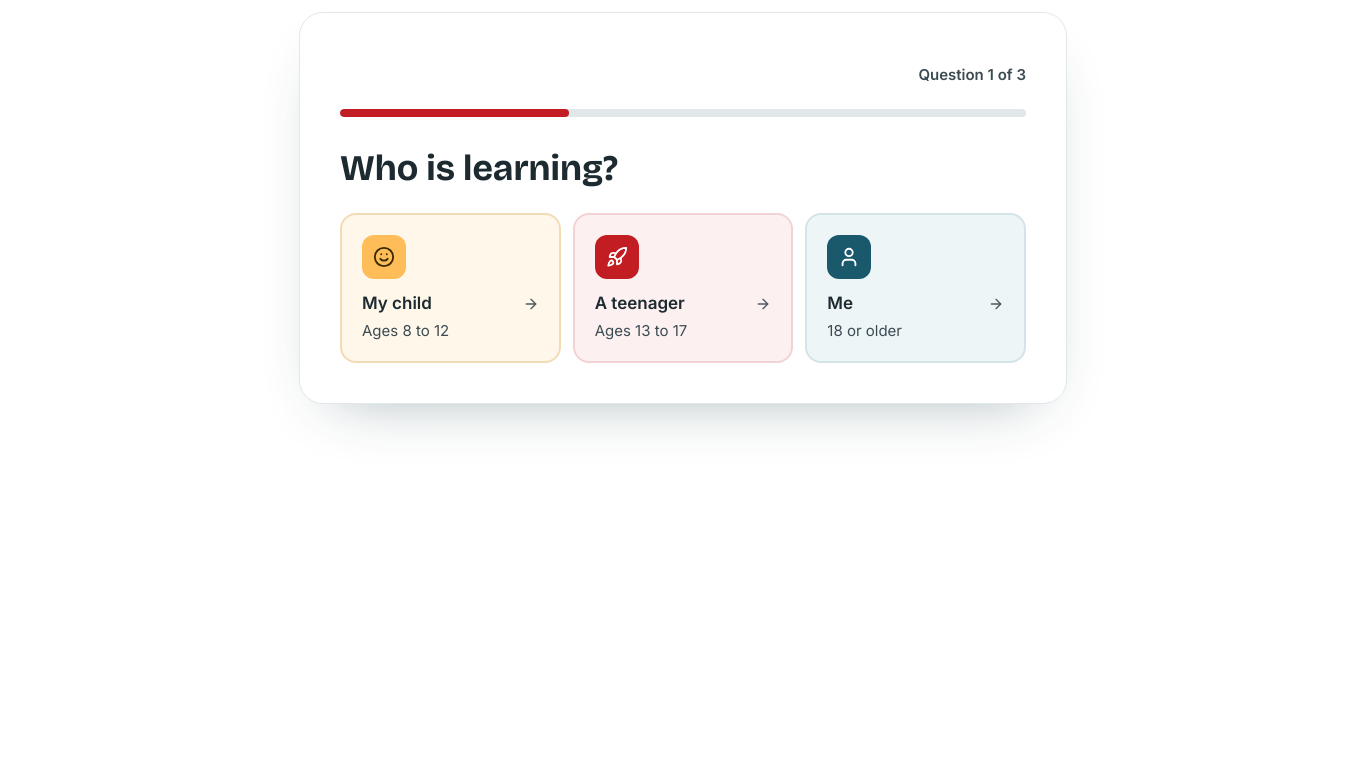
Scenario: course finder › changes one answer from the results and keeps the others
Click the button "My child Ages 8 to 12": (450, 288) [340,213,561,363]
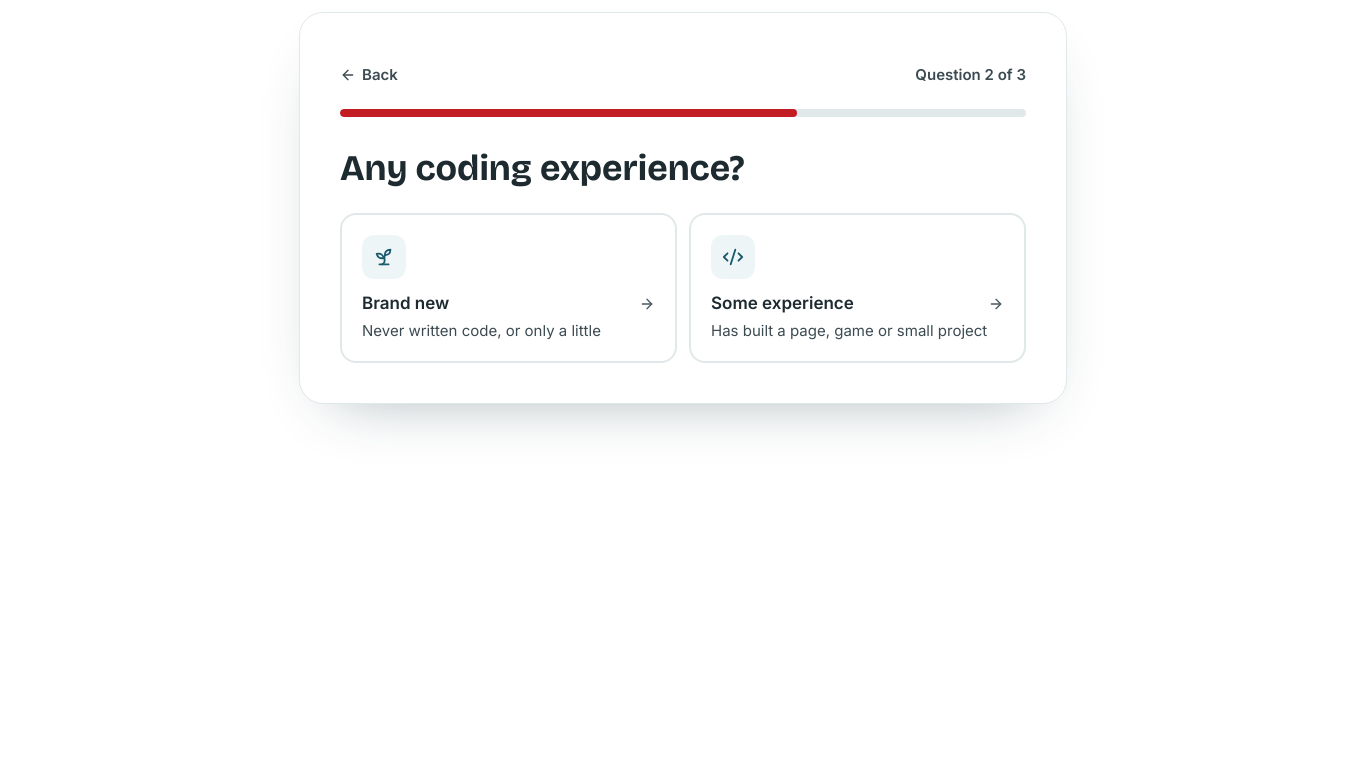
Click the button "Brand new Never written code, or only a little": (384, 257) [340,213,677,363]
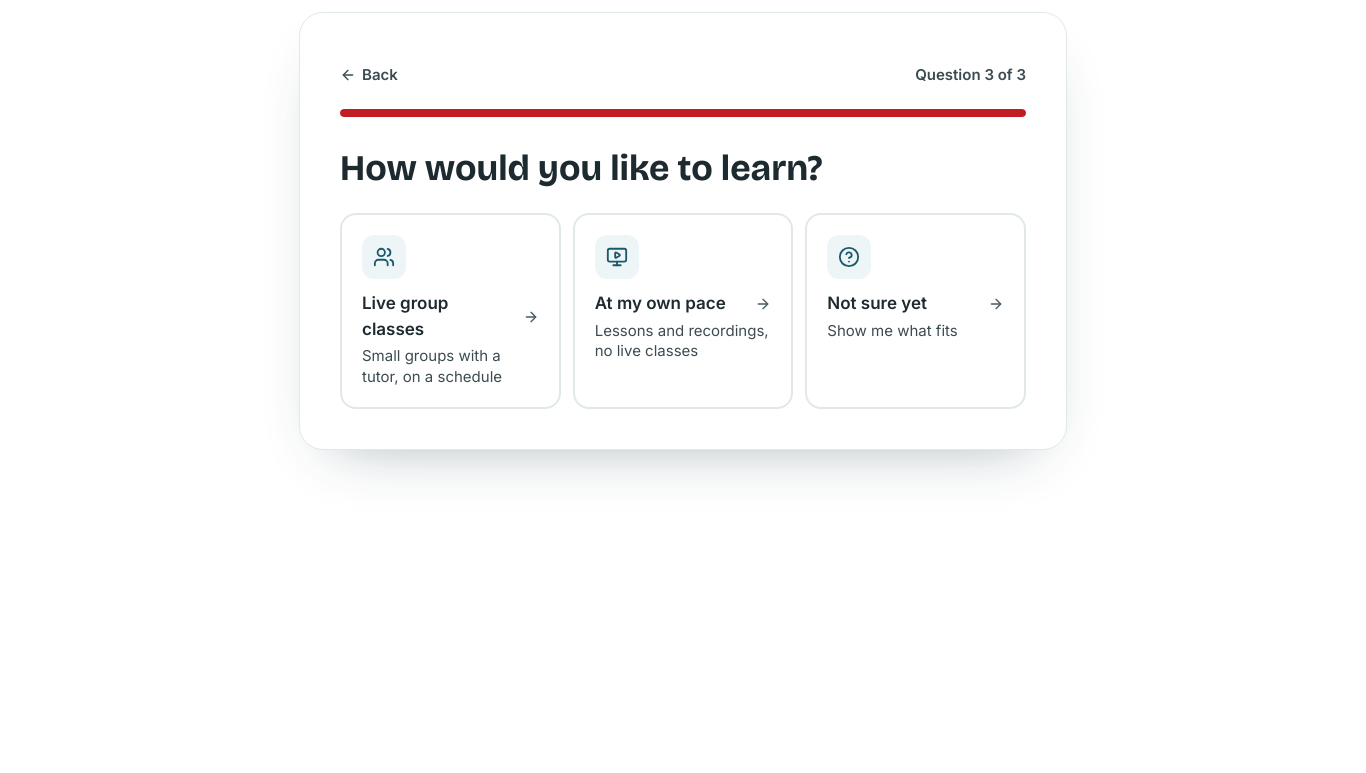
Click the button "Live group classes Small groups with a tutor, on a schedule": (450, 311) [340,213,561,409]
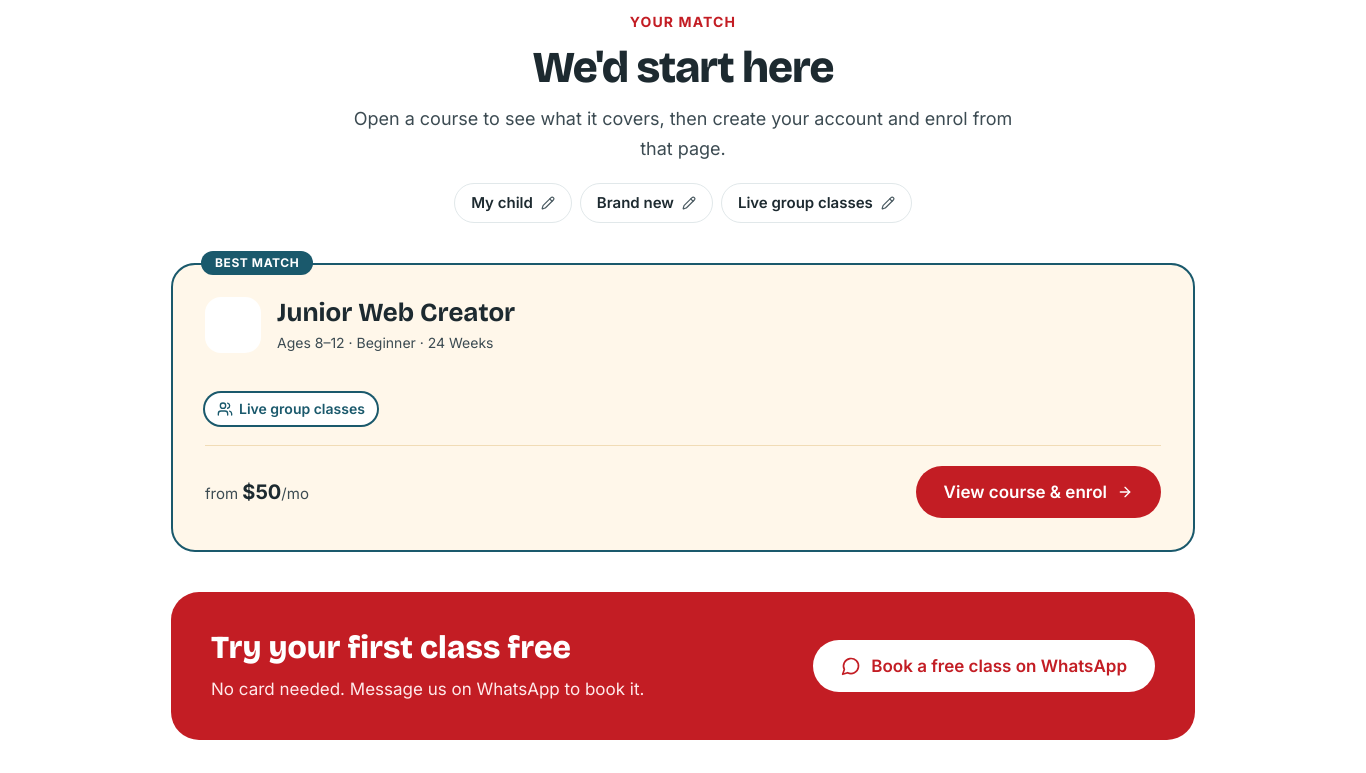
Check: the text "Junior Web Creator" is shown, box [277,297,515,329]
Click the button "My child": (513, 203) [454,183,572,223]
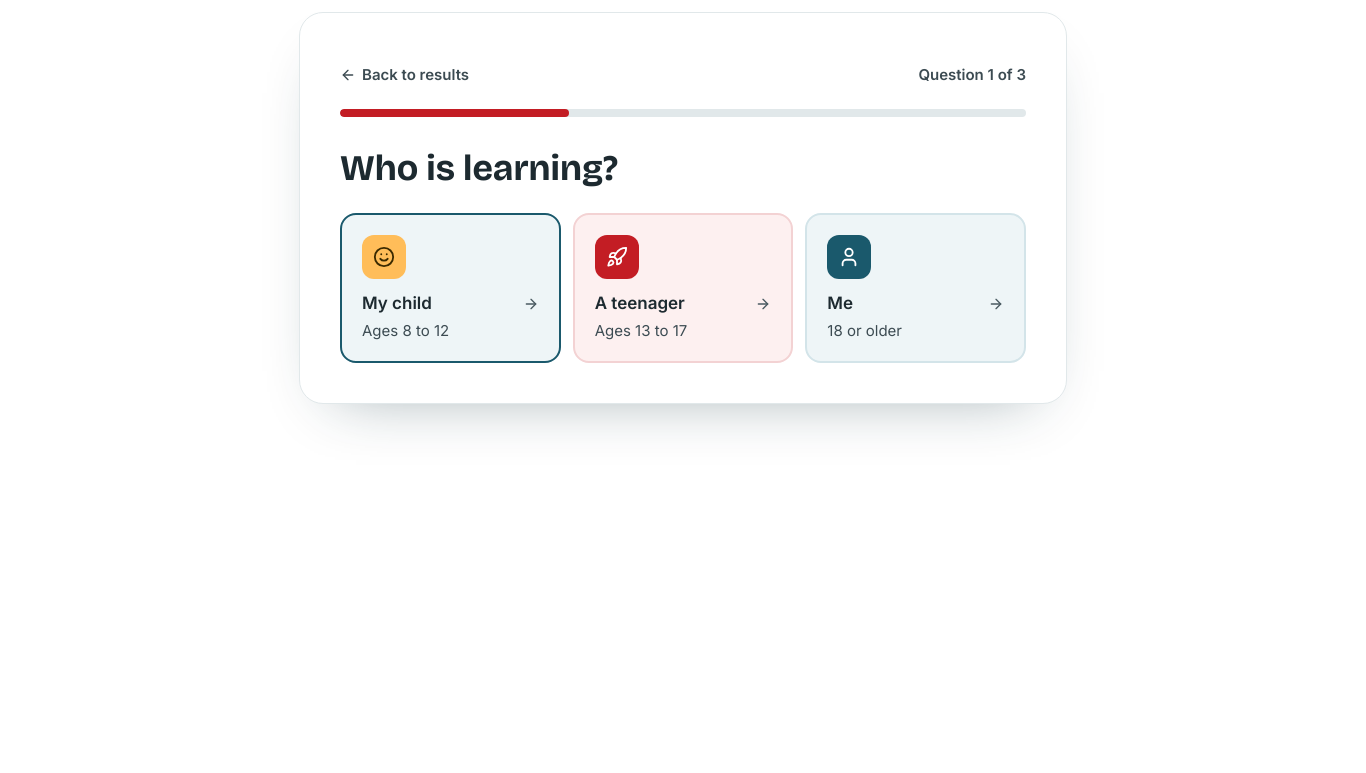
Check: the text "Who is learning?" is shown, box [340,147,618,190]
Click the button "Me 18 or older": (916, 288) [805,213,1026,363]
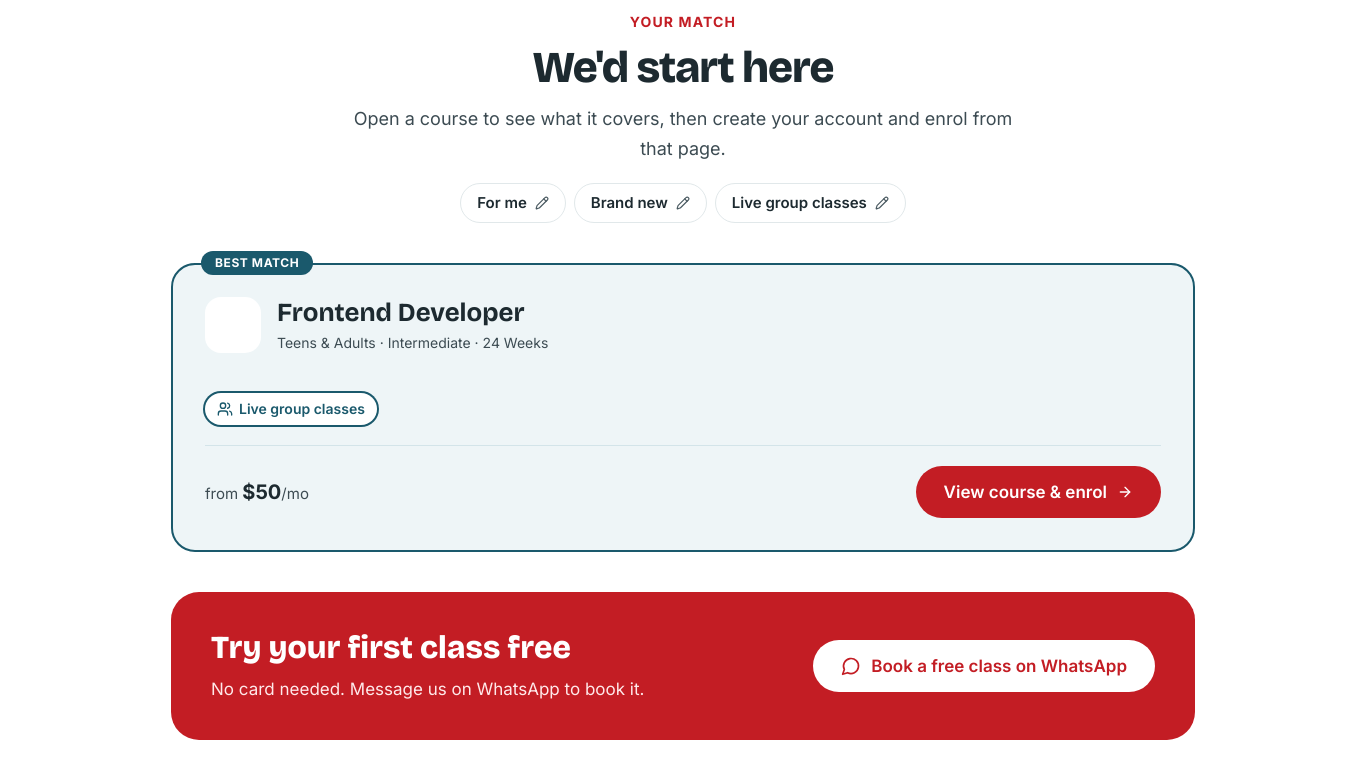
Check: the text "Junior Web Creator" is not shown
Check: the text "Best match" is shown, box [201,251,313,275]
Check: the text "Frontend Developer" is shown, box [277,297,548,329]
